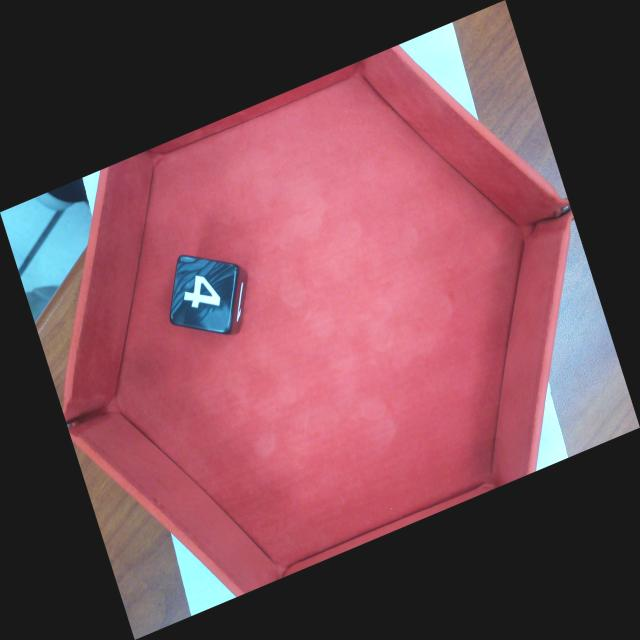dice: (172, 256, 238, 337)
